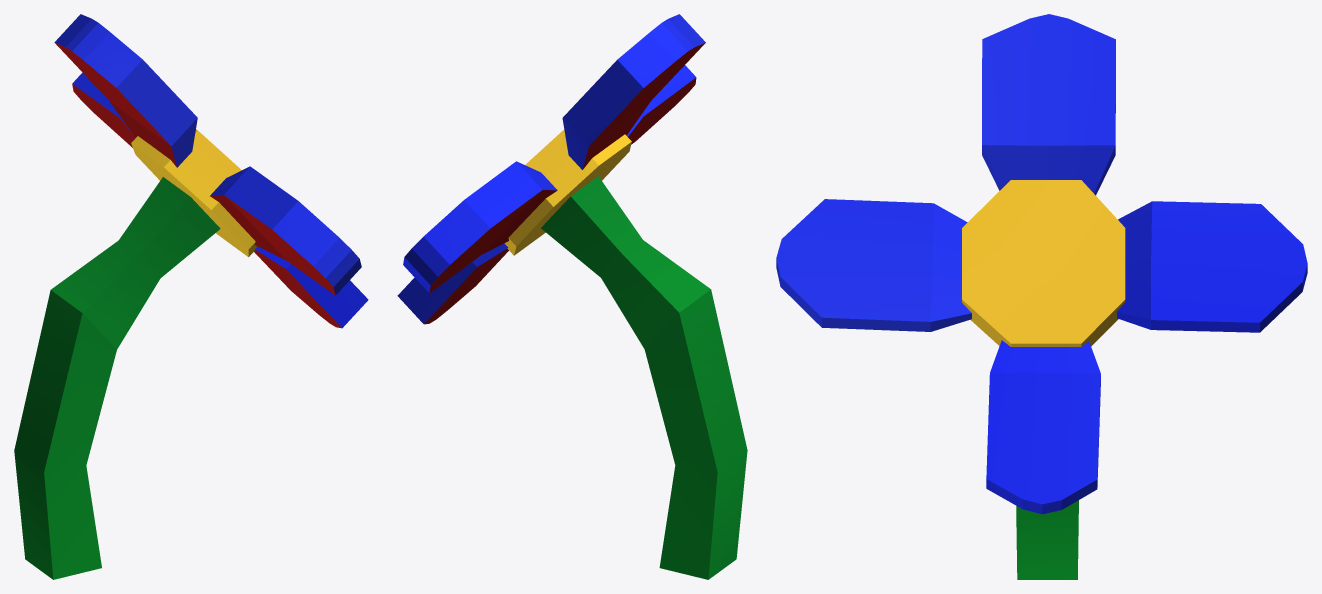
File: FLORESRECOGER4 .fbx
3 renders of one model, left to right at view 1: azimuth 30°, elevation 25°; view 2: azimuth 150°, elevation 25°; view 3: azimuth 270°, elevation 25°, orthographic. The views are drawn at different scales.
Parts seen in each view (by area): view 1: Cube.005; view 2: Cube.005; view 3: Cube.005.
Boxes of the visible parts, bbox=[...] form: Cube.005: bbox=[14, 14, 368, 579]; Cube.005: bbox=[397, 14, 747, 579]; Cube.005: bbox=[776, 14, 1307, 579].
Size of the model in its own units: 1330 by 2083 by 1754.
